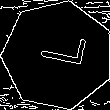L_W: (29, 35, 86, 75)
